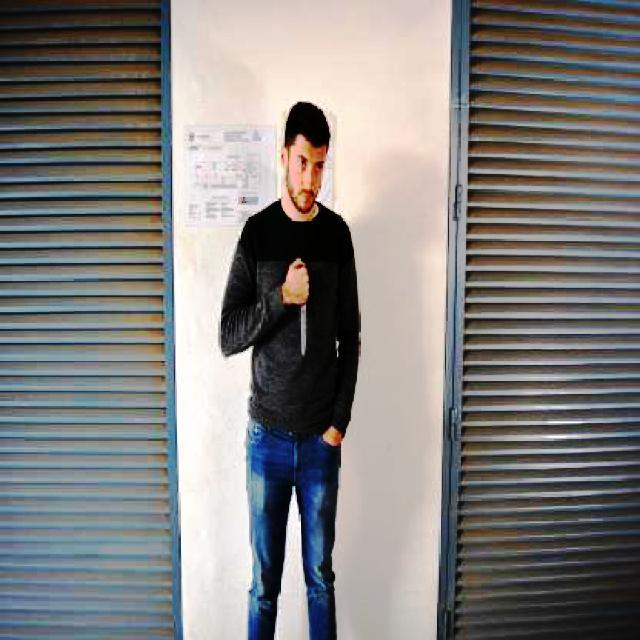Knife: (298, 296, 316, 361)
